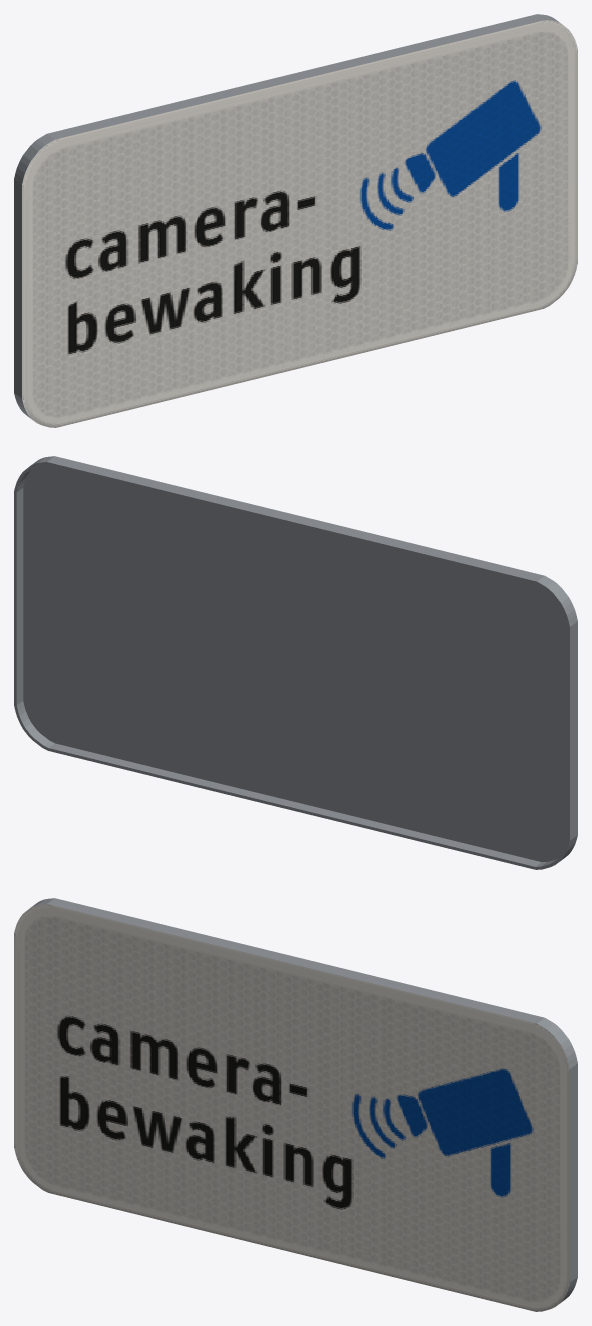
3 renders of one model, top to bottom at view 1: azimuth 30°, elevation 25°; view 2: azimuth 150°, elevation 25°; view 3: azimuth 330°, elevation 25°, orthographic.
Parts seen in each view (by area): view 1: cat_e3c71f048920bf97; view 2: cat_e3c71f048920bf97; view 3: cat_e3c71f048920bf97.
Part boxes in pixels (box(x1,y1,x2,y2)): cat_e3c71f048920bf97: box(14, 14, 577, 427); cat_e3c71f048920bf97: box(14, 456, 577, 869); cat_e3c71f048920bf97: box(14, 898, 577, 1311).
Bounding box in the file's own units: 0.6 × 0.015 × 0.2976.
2 materials, 1 textured.
